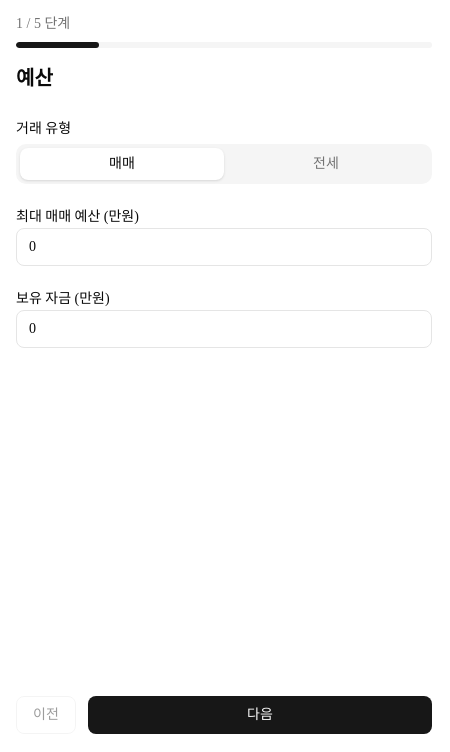
Scenario: OnboardingFeature › 현재 스텝 검증 실패 시 에러를 표시하고 넘어가지 않는다
Click the button "다음".
click(260, 715)  # box [88,696,432,734]
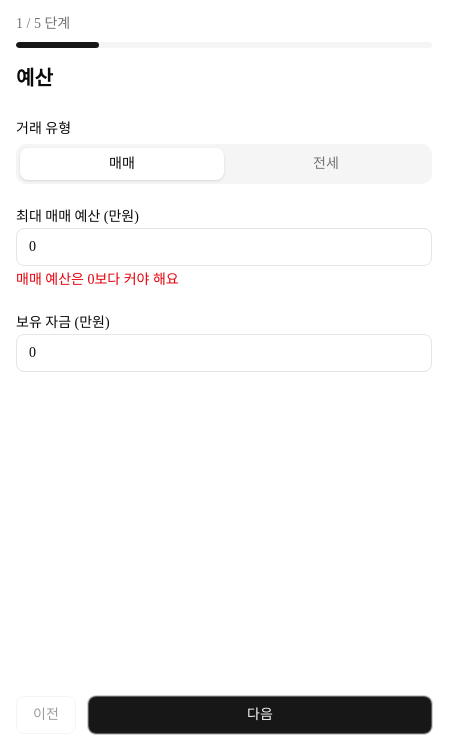
Expected: the heading "예산" is shown, [16,67,53,89]
Expected: the text "매매 예산은 0보다 커야 해요" is shown, [16,272,179,287]
